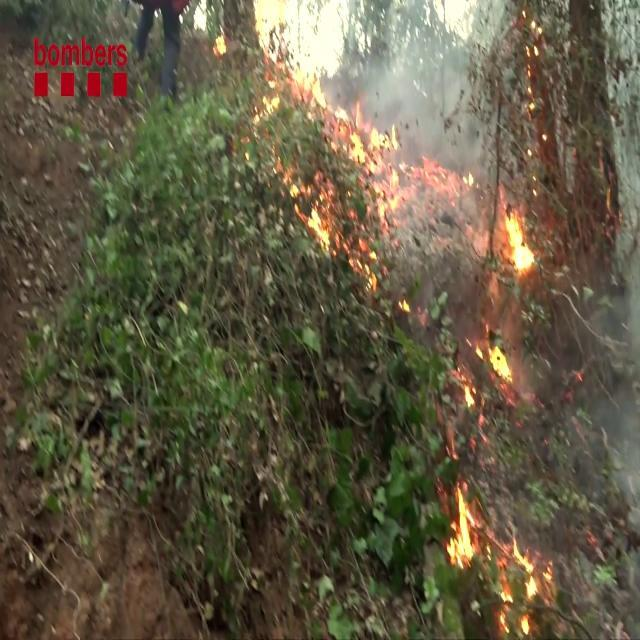Fire: (278, 59, 413, 273), (492, 530, 553, 634), (498, 202, 538, 278), (446, 478, 478, 572)
Smoke: (599, 6, 640, 586)
